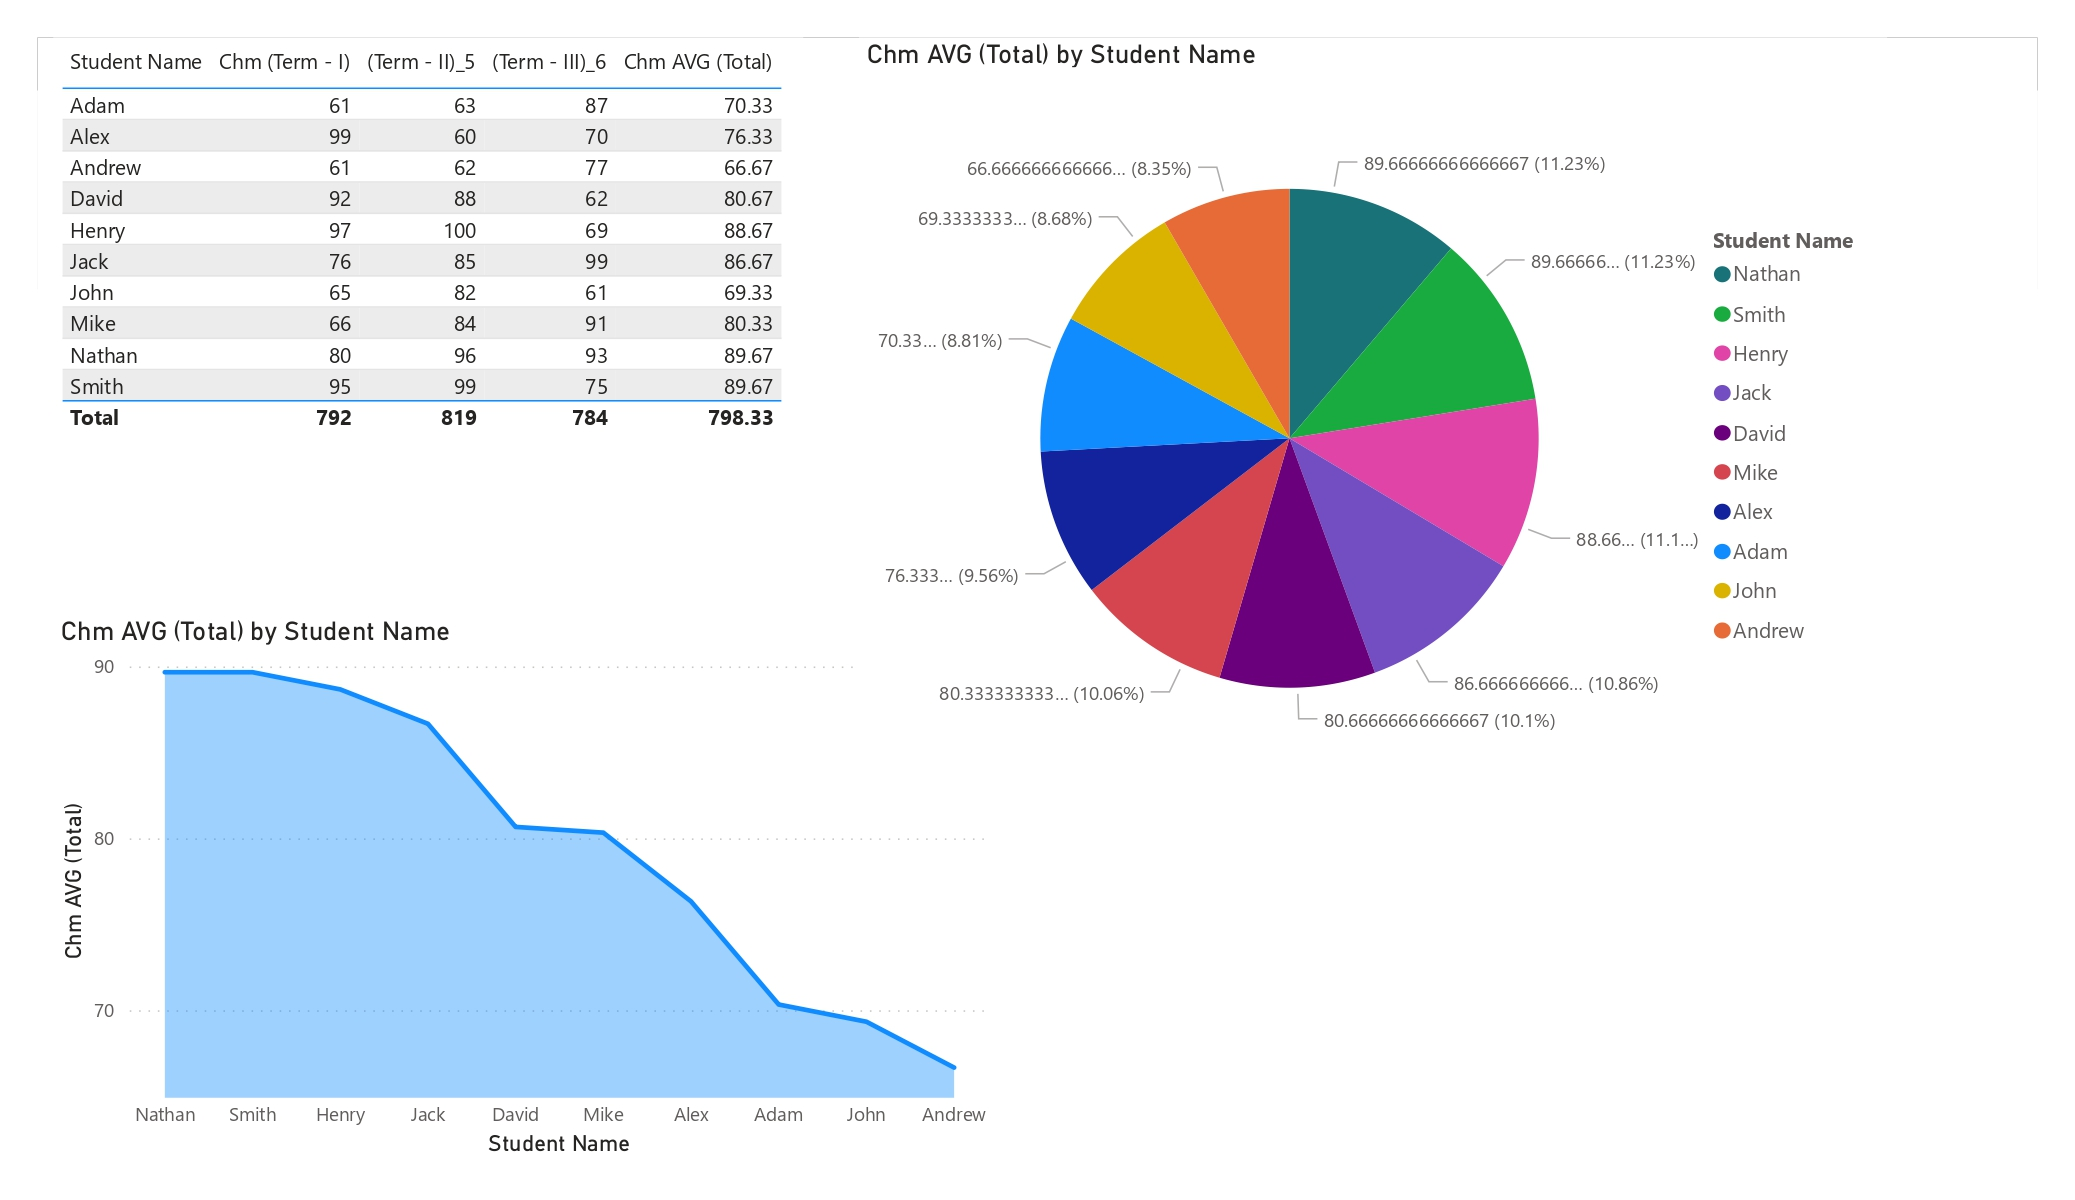

Layout of this report page (visuals, bound fields, positions):
{"tool":"powerbi","page":{"name":"Exam Report for Chemistry ","canvas":[1280,720],"ordinal":3},"visuals":[{"type":"tableEx","fields":{"Values":["student report.Student Name","student report.Chm        (Term - I)","student report.(Term - II)_5","student report.(Term - III)_6","student report.Chm  AVG (Total)"]},"box":[10.1,0,480.4,359.5],"z":0},{"type":"areaChart","fields":{"Category":["student report.Student Name"],"Y":["student report.Chm  AVG (Total)"]},"box":[10.1,369.6,606.4,351.1],"z":1},{"type":"pieChart","fields":{"Category":["student report.Student Name"],"Y":["student report.Chm  AVG (Total)"]},"box":[525.8,0,658.5,493.9],"z":2}]}

Visuals, with their boxes on the page's 1280x720 design canvas (x1, y1, x2, y2). These are canvas units, not pixel positions in the 2075x1200 screenshot, which may show the page scaled, cropped or inside an application window:
tableEx - student report.Student Name x student report.Chm        (Term - I): <box>10,0,490,360</box>
areaChart - student report.Student Name x student report.Chm  AVG (Total): <box>10,370,616,721</box>
pieChart - student report.Student Name x student report.Chm  AVG (Total): <box>526,0,1184,494</box>
